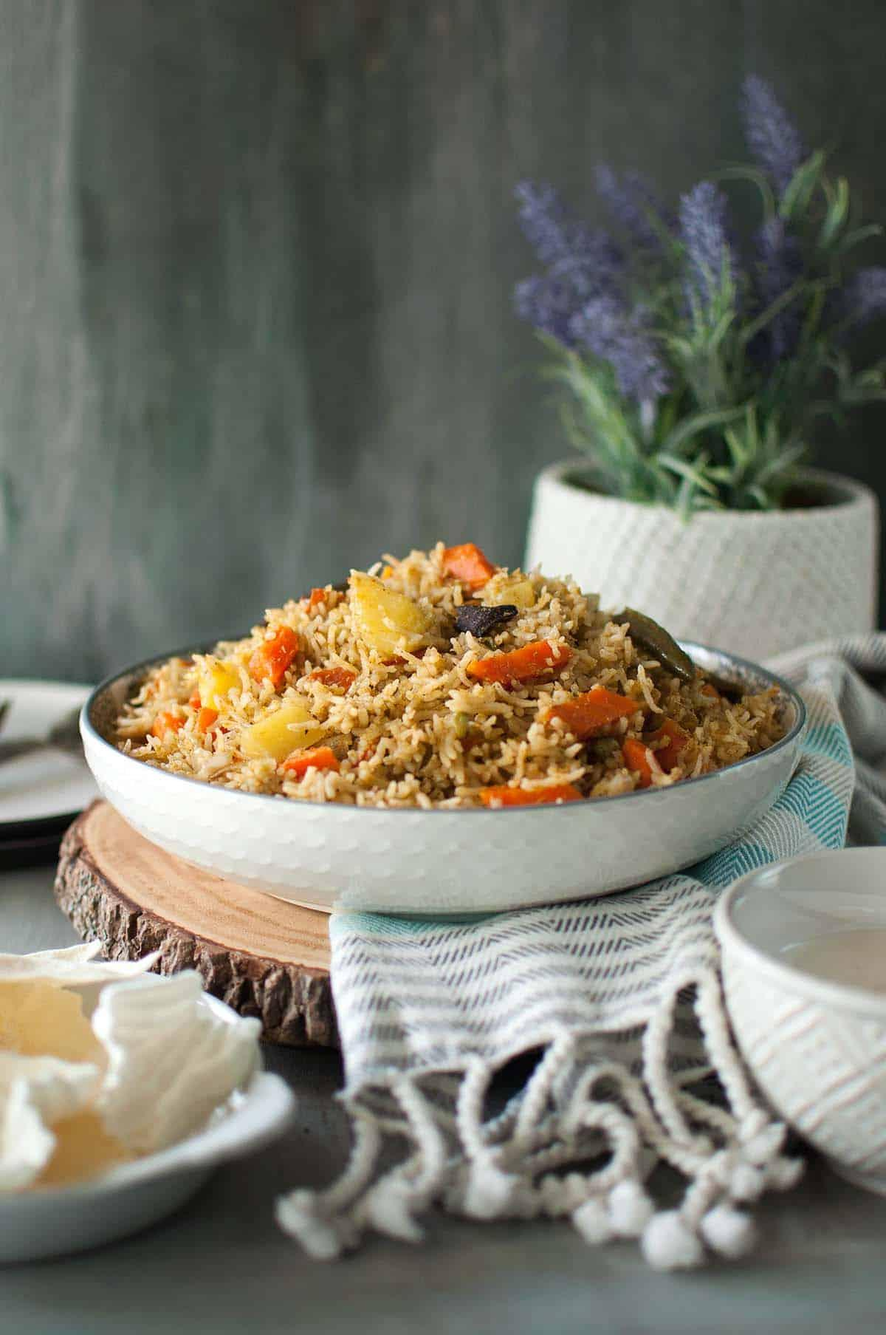veg-pulao: (142, 533, 749, 824)
